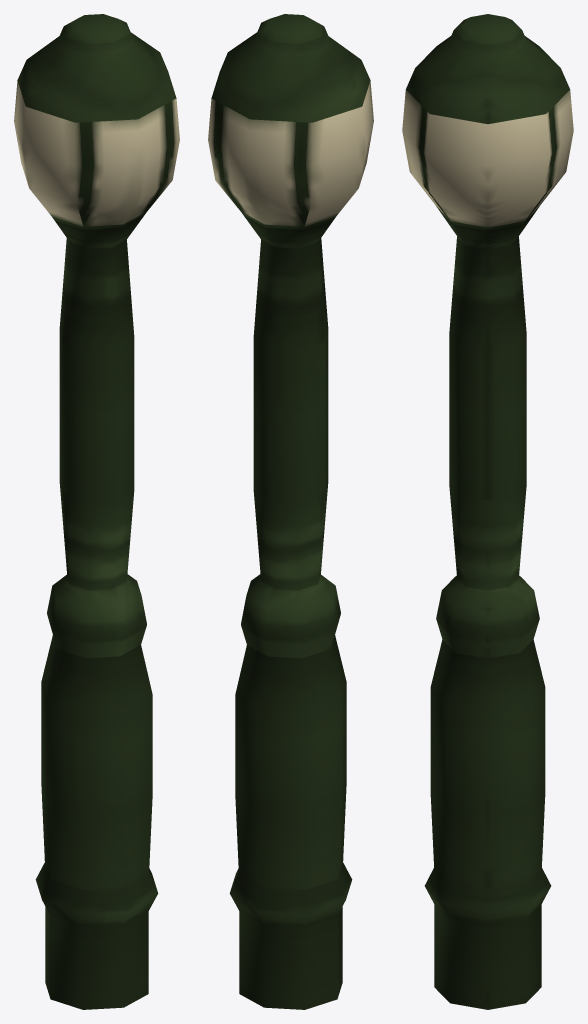
File: lamp.fbx
The picture shows the model from 3 angles, left to right: view 1: azimuth 30°, elevation 25°; view 2: azimuth 150°, elevation 25°; view 3: azimuth 270°, elevation 25°; orthographic projection.
Parts seen in each view (by area): view 1: lamp; view 2: lamp; view 3: lamp.
Boxes of the visible parts, bbox=[...] form: lamp: bbox=[14, 14, 179, 1009]; lamp: bbox=[208, 14, 373, 1009]; lamp: bbox=[402, 14, 573, 1009].
Size of the model in its own units: 46.71 by 289 by 46.71.
